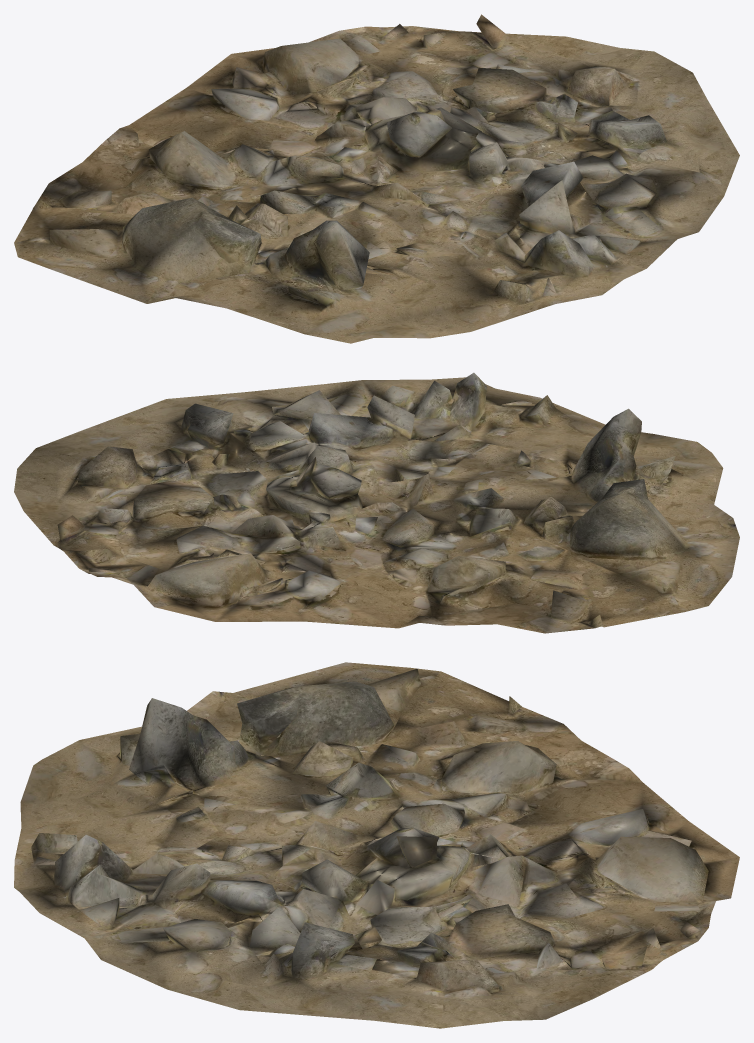
Rendered from sand_rocks_small_01.glb.
The picture shows the model from 3 angles, top to bottom: view 1: azimuth 30°, elevation 25°; view 2: azimuth 150°, elevation 25°; view 3: azimuth 270°, elevation 25°; orthographic projection. The views are drawn at different scales.
Visible parts, largest first — view 1: sand_rocks_small_01_lod0; view 2: sand_rocks_small_01_lod0; view 3: sand_rocks_small_01_lod0.
Boxes of the visible parts, x1=… form: sand_rocks_small_01_lod0: x1=14, y1=14, x2=739, y2=343; sand_rocks_small_01_lod0: x1=14, y1=372, x2=739, y2=633; sand_rocks_small_01_lod0: x1=14, y1=662, x2=739, y2=1028.
Size of the model in its own units: 4.61 by 0.5281 by 3.84.
1 material, 1 textured.
